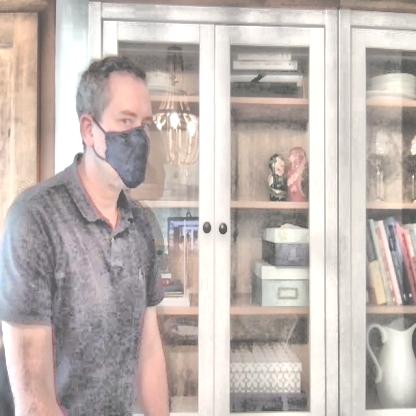not_wear: (78, 61, 150, 188)
